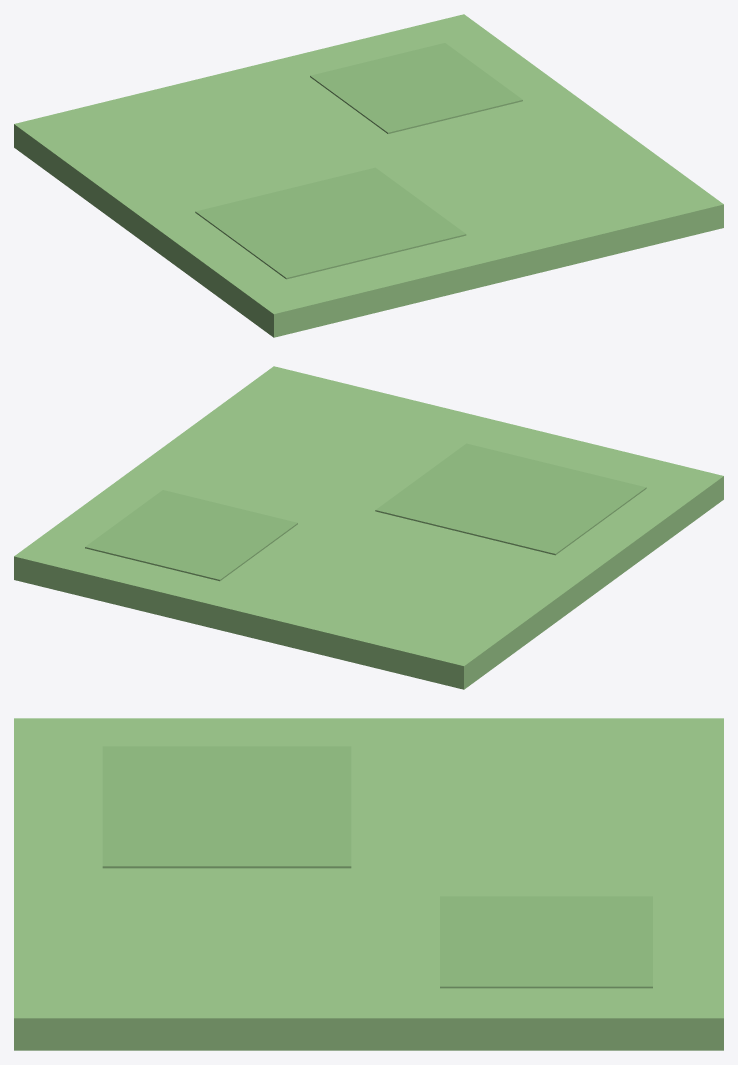
The model's file is ground_grass.glb.
The picture shows the model from 3 angles, top to bottom: view 1: azimuth 30°, elevation 25°; view 2: azimuth 150°, elevation 25°; view 3: azimuth 270°, elevation 25°; orthographic projection. The views are drawn at different scales.
Parts seen in each view (by area): view 1: ground_grass; view 2: ground_grass; view 3: ground_grass.
Part boxes in pixels (x1=…): ground_grass: x1=14, y1=14, x2=723, y2=337; ground_grass: x1=14, y1=366, x2=723, y2=689; ground_grass: x1=14, y1=718, x2=723, y2=1050.
Bounding box in the file's own units: 1 × 0.053 × 1.
